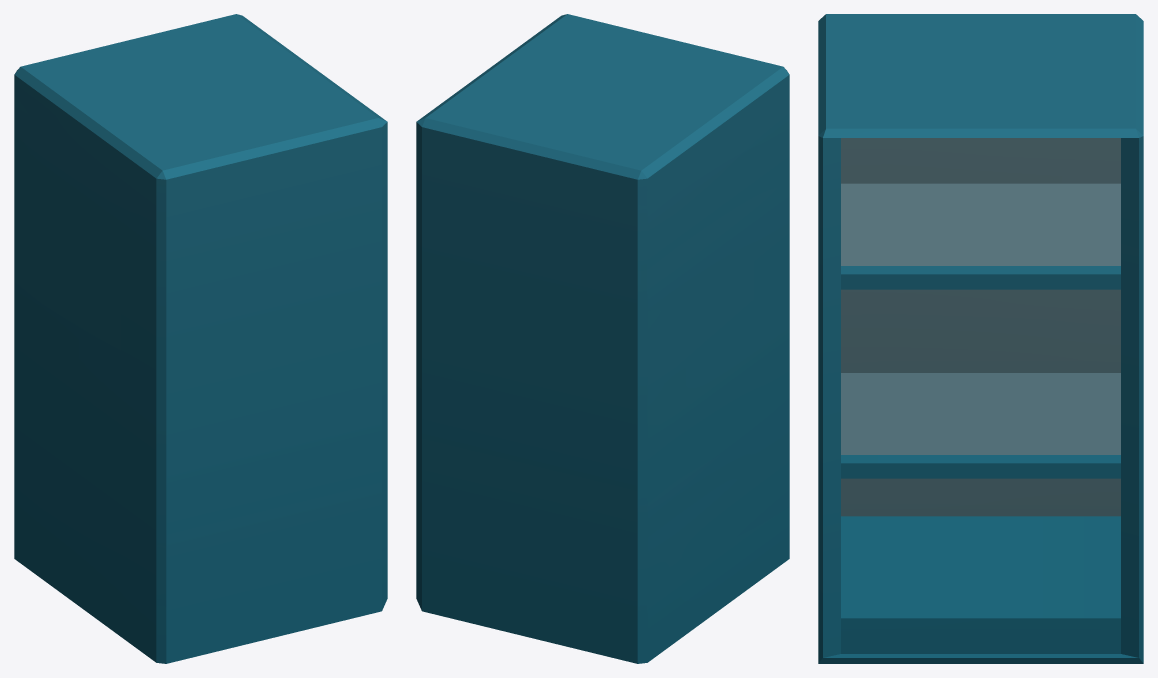
Rendered from fridge2.glb.
The picture shows the model from 3 angles, left to right: view 1: azimuth 30°, elevation 25°; view 2: azimuth 150°, elevation 25°; view 3: azimuth 270°, elevation 25°; orthographic projection. The views are drawn at different scales.
Parts seen in each view (by area): view 1: Fridge2.001; view 2: Fridge2.001; view 3: Fridge2.001.
Part boxes in pixels (<box>): Fridge2.001: <box>14,14,387,663</box>; Fridge2.001: <box>416,14,789,663</box>; Fridge2.001: <box>818,14,1143,663</box>.
Bounding box in the file's own units: 0.8887 × 1.81 × 1.
1 material, 1 textured.
